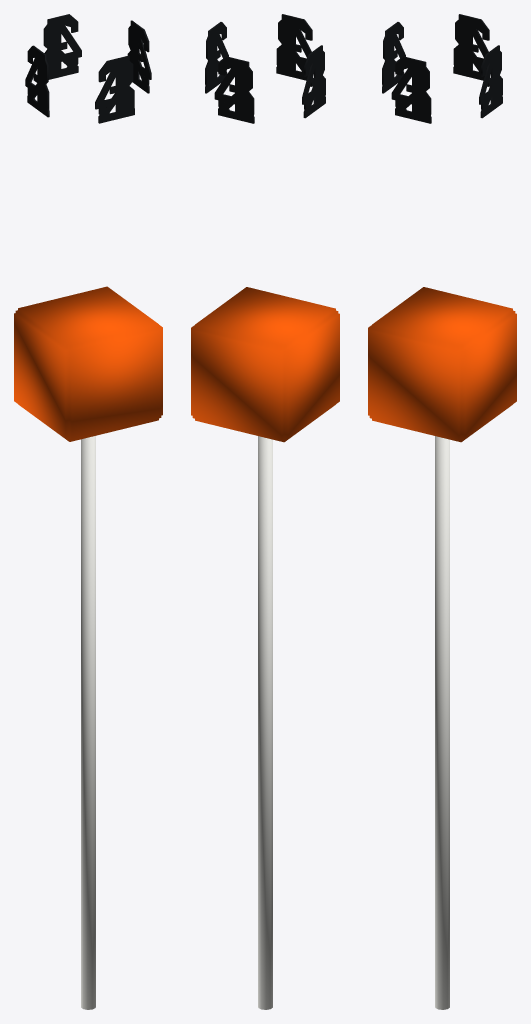
The model's file is down_marker.glb.
3 renders of one model, left to right at view 1: azimuth 30°, elevation 25°; view 2: azimuth 150°, elevation 25°; view 3: azimuth 330°, elevation 25°, orthographic.
Parts seen in each view (by area): view 1: down_marker.001, down_2.001, down_1.001, down_4.001, down_3.001; view 2: down_marker.001, down_2.001, down_1.001, down_4.001, down_3.001; view 3: down_marker.001, down_2.001, down_1.001, down_4.001, down_3.001.
Part boxes in pixels (x1,y1,x2,y2): down_marker.001: (14, 286, 162, 1009); down_2.001: (27, 14, 149, 123); down_1.001: (28, 16, 146, 121); down_4.001: (25, 17, 151, 118); down_3.001: (27, 20, 149, 121); down_marker.001: (191, 287, 339, 1009); down_2.001: (205, 15, 325, 122); down_1.001: (205, 15, 325, 123); down_4.001: (205, 14, 325, 123); down_3.001: (205, 20, 325, 121); down_marker.001: (368, 287, 516, 1009); down_2.001: (382, 15, 502, 121); down_1.001: (383, 16, 502, 123); down_4.001: (382, 14, 502, 123); down_3.001: (382, 20, 502, 119).
Size of the model in its own units: 0.374 by 3.42 by 0.374.
